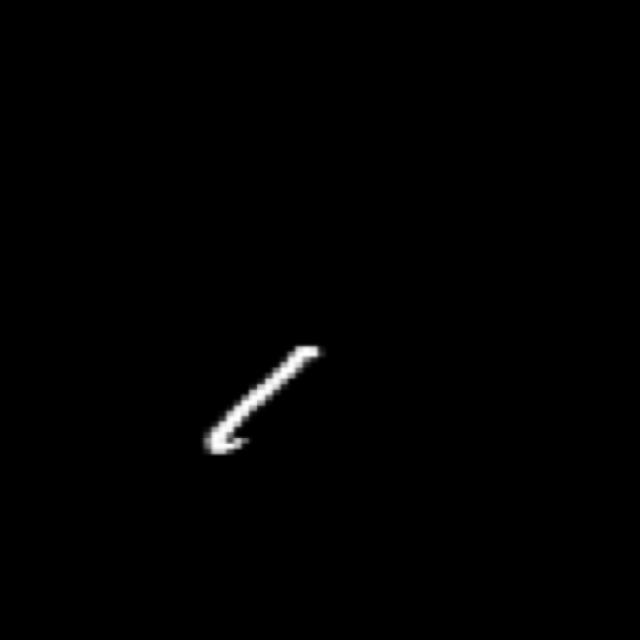one -1-: (175, 325, 346, 468)
